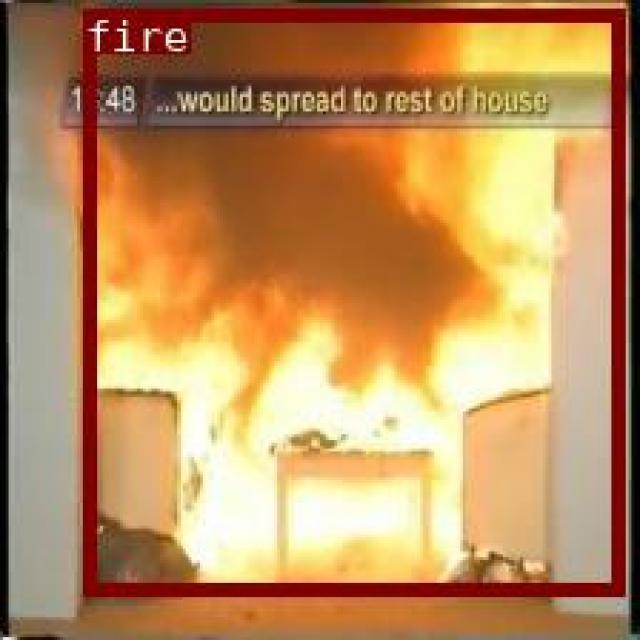fire: (81, 6, 622, 594)
